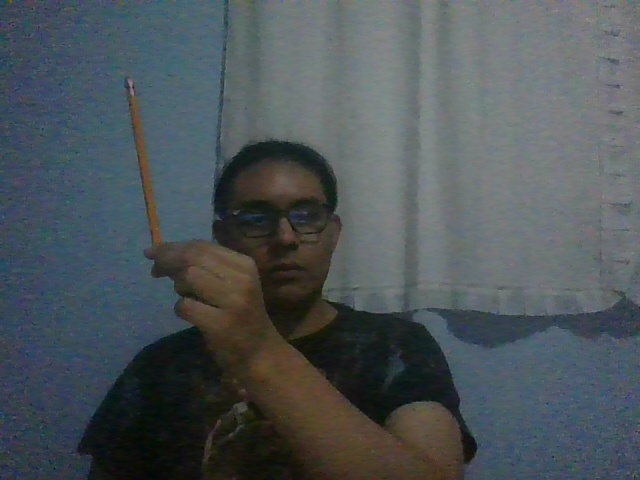lapiz: (124, 77, 162, 246)
